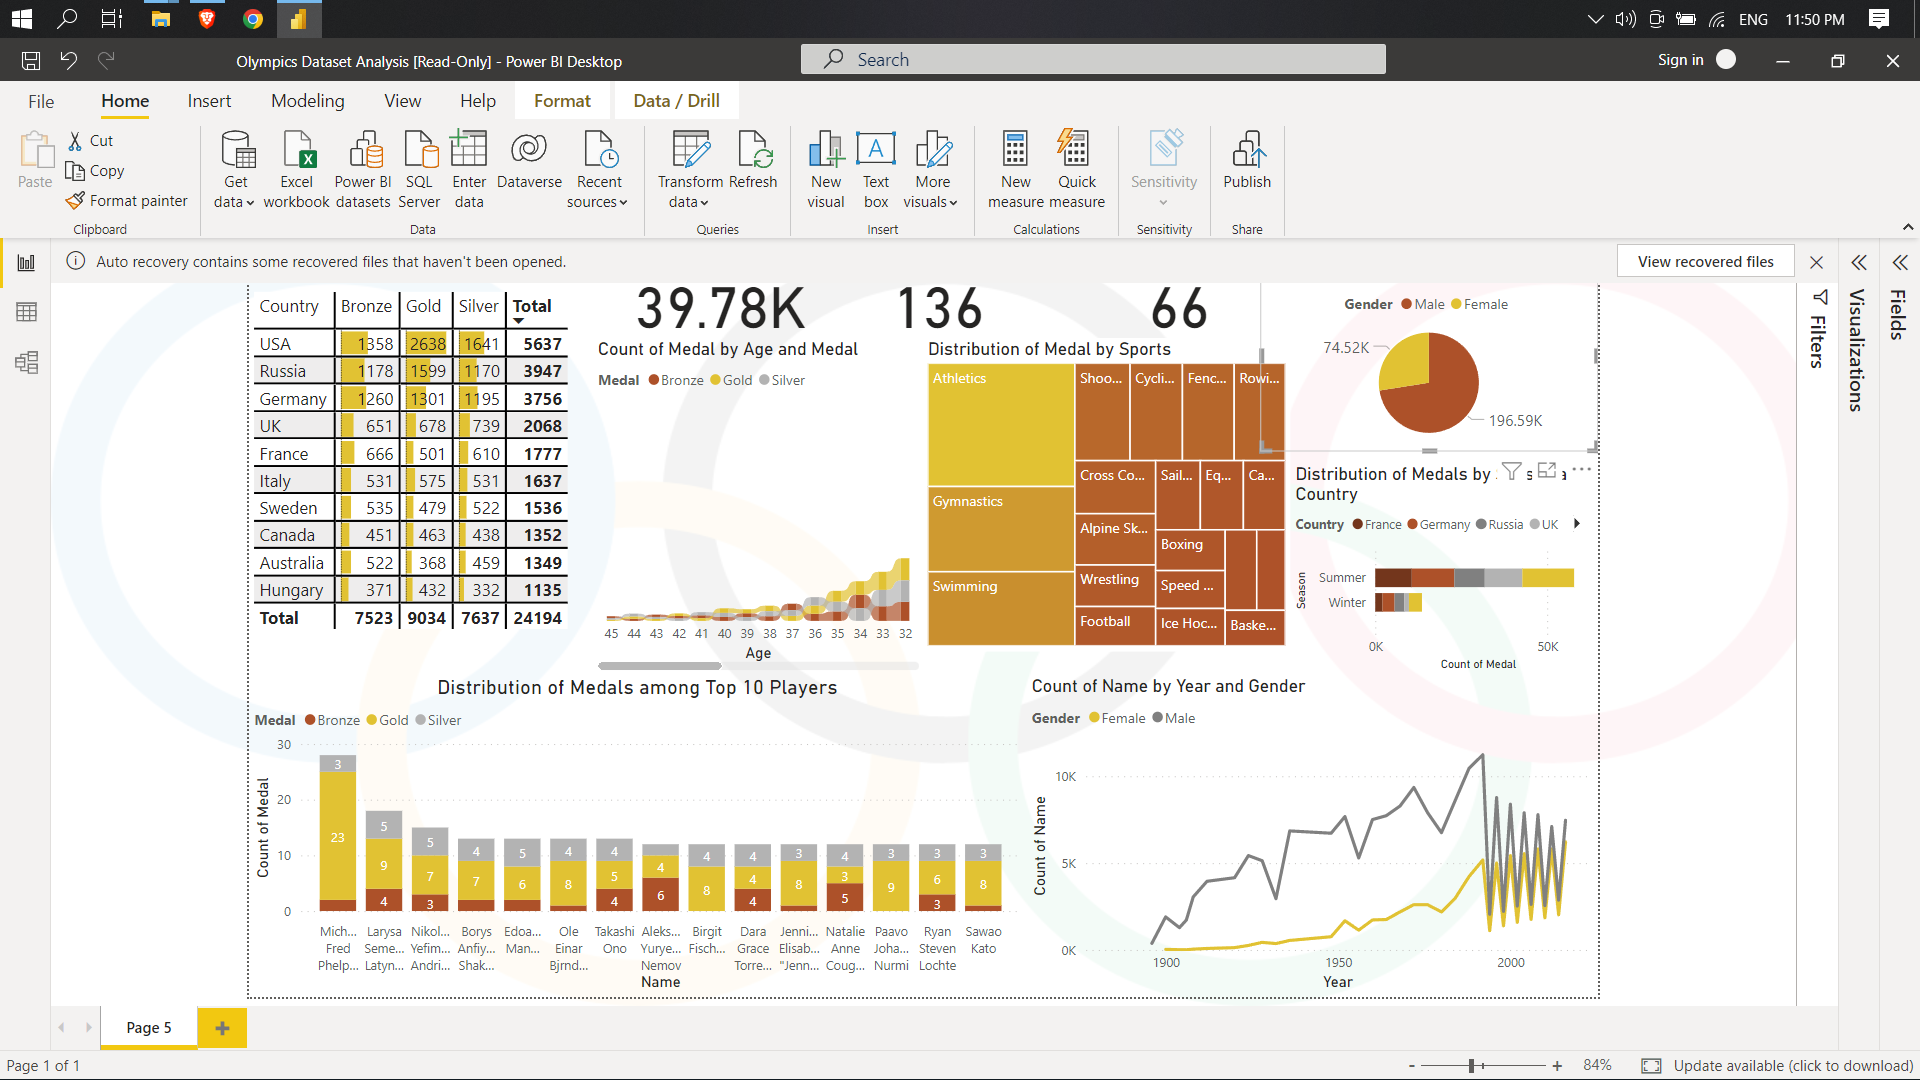

Layout of this report page (visuals, bound fields, positions):
{"tool":"powerbi","page":{"name":"Page 5","canvas":[1280,720],"ordinal":0},"visuals":[{"type":"shape","box":[10.1,0,344.8,41.8],"z":0},{"type":"card","title":"Sports Played","fields":{"Values":["Olympics Final.Sport"]},"box":[770.5,0,223.6,95.2],"z":1000},{"type":"card","title":"Countries Participated","fields":{"Values":["Olympics Final.Country"]},"box":[536.8,0,233.7,95.2],"z":2000},{"type":"card","title":"Medals Earned","fields":{"Values":["Olympics Final.Medal"]},"box":[354.9,0,186.1,95.2],"z":3000},{"type":"pieChart","title":"Distribution of Medals by Gender","fields":{"Category":["Olympics Final.Gender"],"Y":["Olympics Final.Medal"]},"box":[959.6,21.4,320.3,181.5],"z":4000},{"type":"pivotTable","fields":{"Rows":["Olympics Final.Country"],"Columns":["Olympics Final.Medal"],"Values":["Olympics Final.Medal"]},"box":[0,46.2,317.4,369.4],"z":5000},{"type":"columnChart","title":"Distribution of Medals among Top 10 Players","fields":{"Category":["Olympics Final.Name"],"Y":["Olympics Final.Medal"],"Series":["Olympics Final.Medal"]},"box":[0,415.6,737.3,304.4],"z":6000},{"type":"barChart","title":"Distribution of Medals by Season and Country","fields":{"Category":["Olympics Final.Season"],"Y":["Olympics Final.Medal"],"Series":["Olympics Final.Country"]},"box":[988.4,213.5,291.5,202],"z":7000},{"type":"treemap","title":"Distribution of Medal by Sports","fields":{"Group":["Olympics Final.Sport"],"Values":["Olympics Final.Medal"]},"box":[639.2,95.2,349.2,297.2],"z":8000},{"type":"ribbonChart","fields":{"Category":["Olympics Final.Age"],"Y":["Olympics Final.Medal"],"Series":["Olympics Final.Medal"]},"box":[326.1,95.2,314.5,320.3],"z":9000},{"type":"lineChart","fields":{"Category":["Olympics Final.Year"],"Series":["Olympics Final.Gender"],"Y":["Olympics Final.Name"]},"box":[737.3,415.6,542.5,304.4],"z":10000}]}

Visuals, with their boxes on the page's 1280x720 design canvas (x1, y1, x2, y2). These are canvas units, not pixel positions in the 1920x1080 screenshot, which may show the page scaled, cropped or inside an application window:
shape: (10,0,355,42)
"Sports Played" card: (770,0,994,95)
"Countries Participated" card: (537,0,770,95)
"Medals Earned" card: (355,0,541,95)
"Distribution of Medals by Gender" pieChart: (960,21,1280,203)
pivotTable - Olympics Final.Country x Olympics Final.Medal: (0,46,317,416)
"Distribution of Medals among Top 10 Players" columnChart: (0,416,737,720)
"Distribution of Medals by Season and Country" barChart: (988,214,1280,416)
"Distribution of Medal by Sports" treemap: (639,95,988,392)
ribbonChart - Olympics Final.Age x Olympics Final.Medal: (326,95,641,416)
lineChart - Olympics Final.Year x Olympics Final.Gender: (737,416,1280,720)
